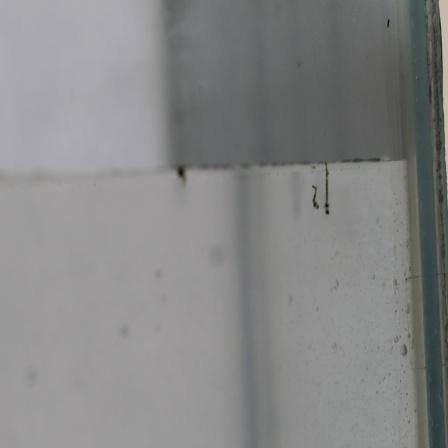Jentik-Nyamuk: (322, 166, 335, 216), (310, 182, 321, 211)
